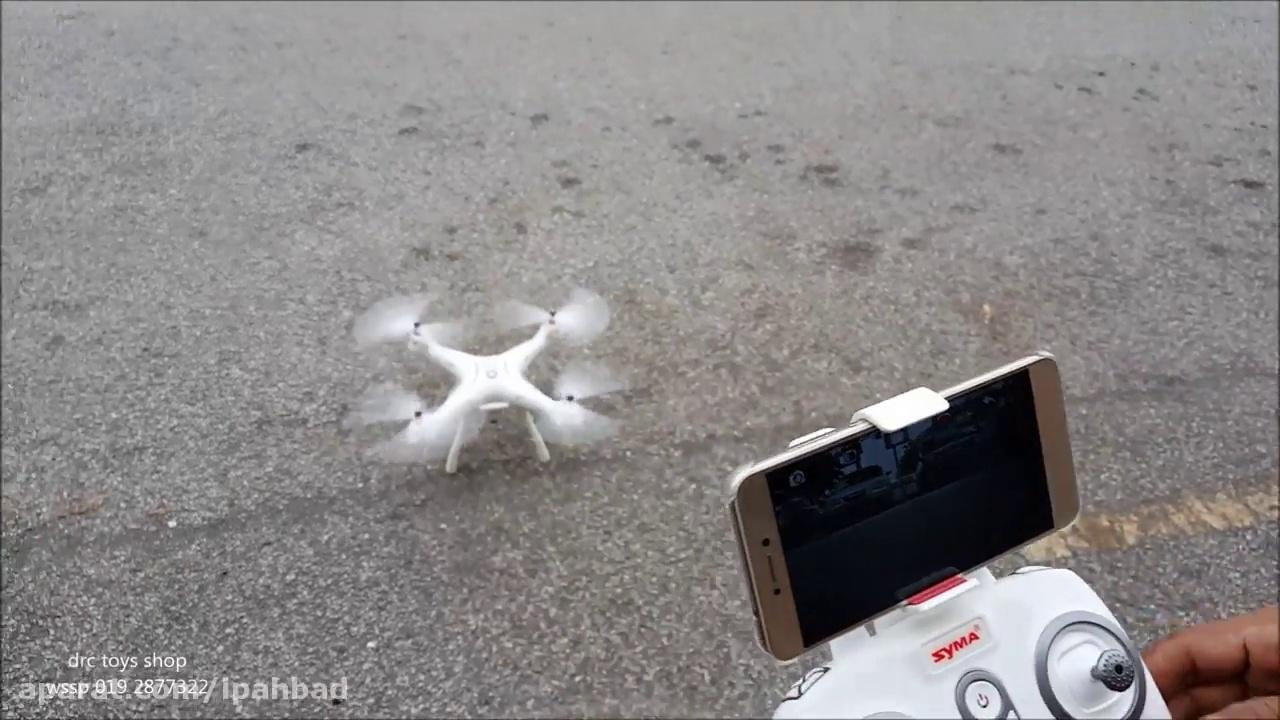drone: (347, 285, 638, 476)
